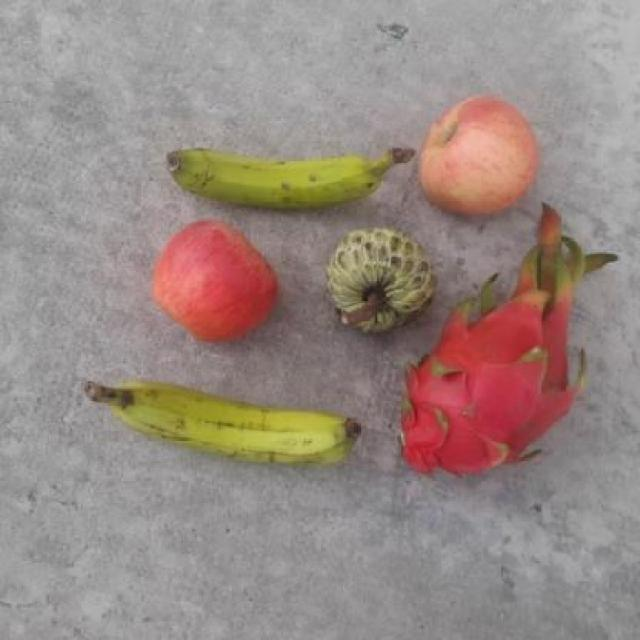apple: (413, 91, 542, 220), (151, 218, 274, 349)
banana: (114, 376, 366, 472), (163, 136, 391, 213)
dragon fruit: (391, 274, 567, 488)
sugar apple: (321, 222, 441, 340)
